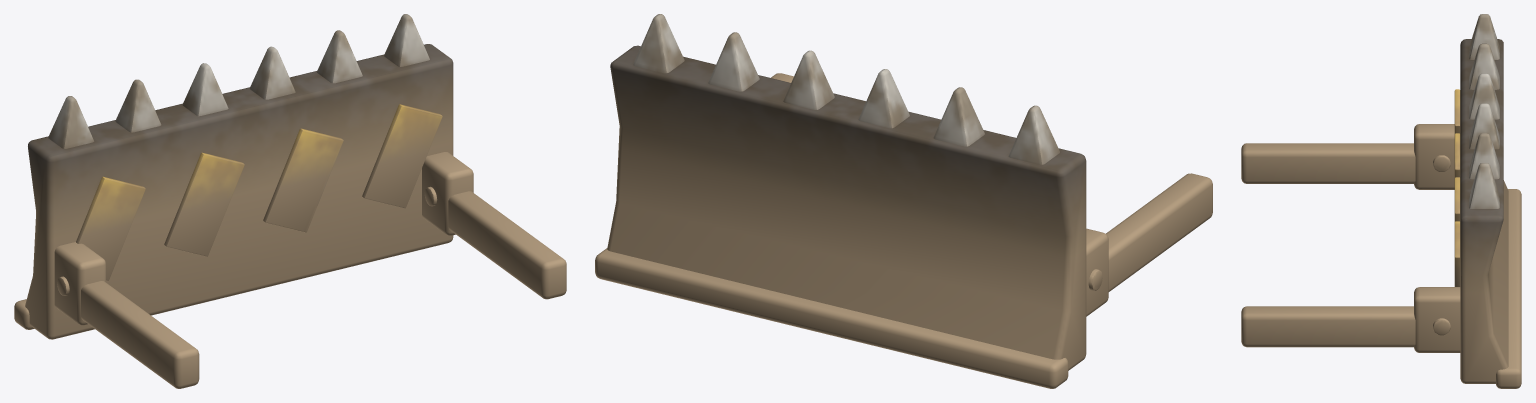
Rendered from demolisher_blade.glb.
The picture shows the model from 3 angles, left to right: view 1: azimuth 30°, elevation 25°; view 2: azimuth 150°, elevation 25°; view 3: azimuth 270°, elevation 25°; orthographic projection. The views are drawn at different scales.
Parts seen in each view (by area): view 1: DemolisherBlade; view 2: DemolisherBlade; view 3: DemolisherBlade.
Part boxes in pixels (x1,y1,x2,y2): DemolisherBlade: (14,14,566,388); DemolisherBlade: (595,14,1212,388); DemolisherBlade: (1241,14,1521,388).
Size of the model in its own units: 2.34 by 1.25 by 1.51.
Materials: 1 (1 with a texture image).
